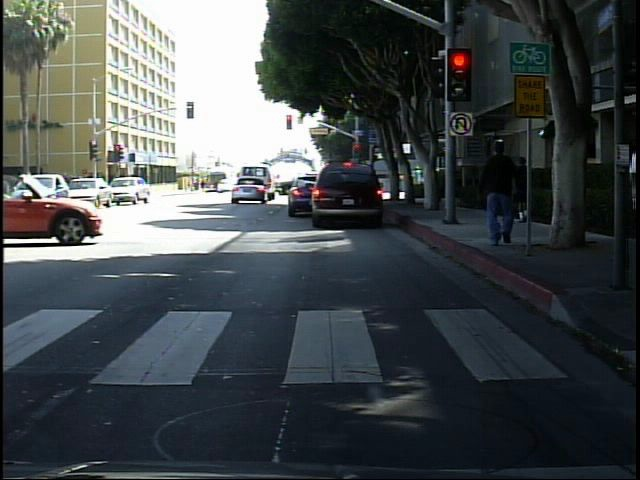person: (477, 130, 526, 255), (514, 147, 539, 232)
